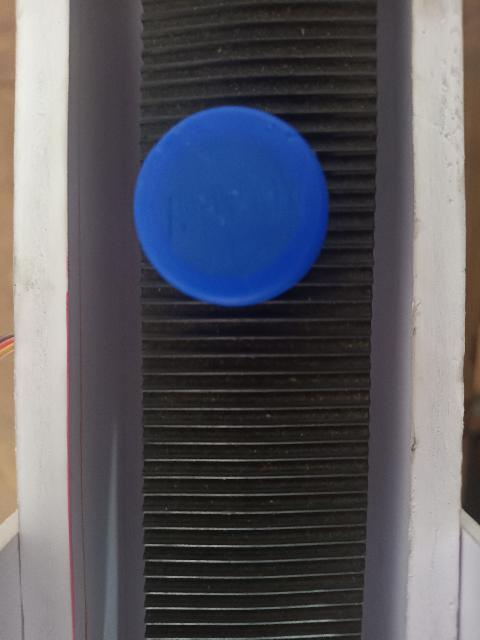bottlecap: (132, 104, 334, 314)
